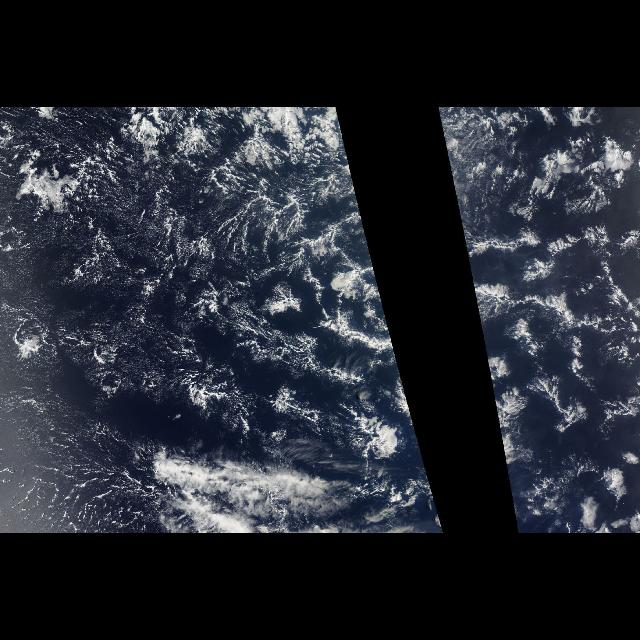Fish: (120, 436, 434, 530)
Flower: (442, 110, 638, 532)
Sugar: (8, 392, 114, 530)
